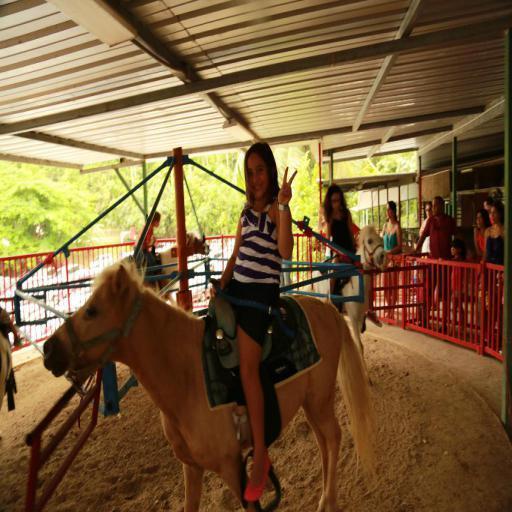horse: (41, 256, 380, 512), (310, 220, 388, 386), (124, 230, 213, 302), (0, 330, 14, 414)
